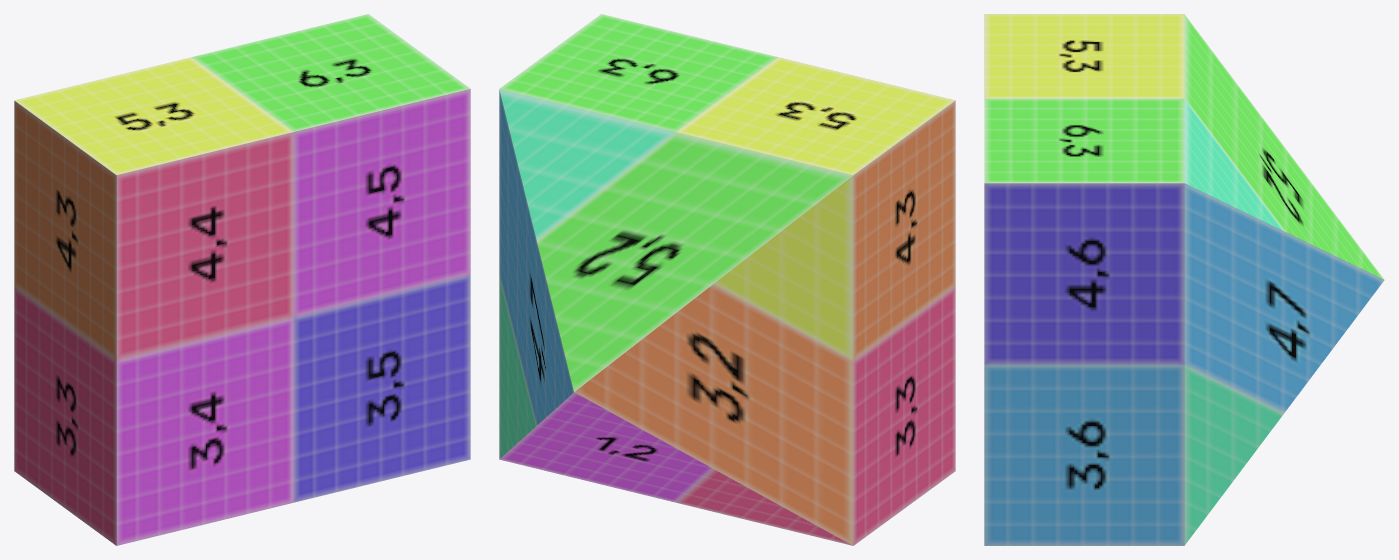
File: enemy.obj
3 views of the same model, side by side, from view 1: azimuth 30°, elevation 25°; view 2: azimuth 150°, elevation 25°; view 3: azimuth 270°, elevation 25° (orthographic). The views are drawn at different scales.
Parts seen in each view (by area): view 1: Cube; view 2: Cube; view 3: Cube.
Part boxes in pixels (left/top/right/bottom): Cube: left=14, top=14, right=470, bottom=545; Cube: left=499, top=14, right=955, bottom=545; Cube: left=984, top=14, right=1384, bottom=545.
Size of the model in its own units: 1 by 1 by 1.
